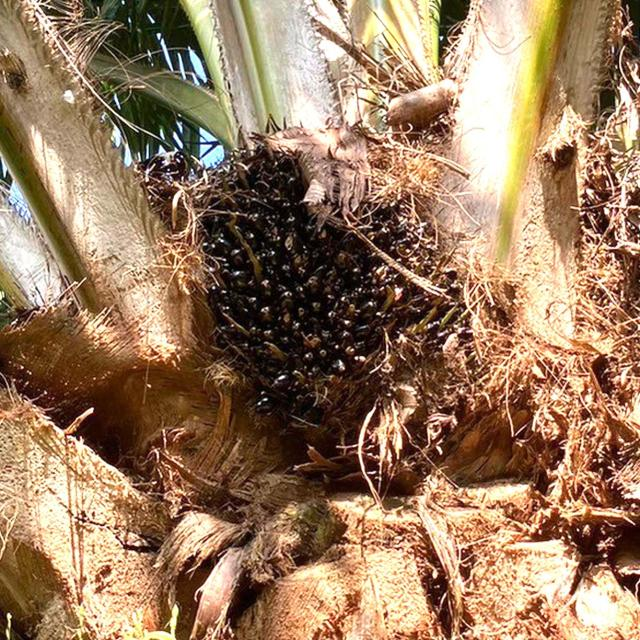unripe: (152, 102, 476, 456)
